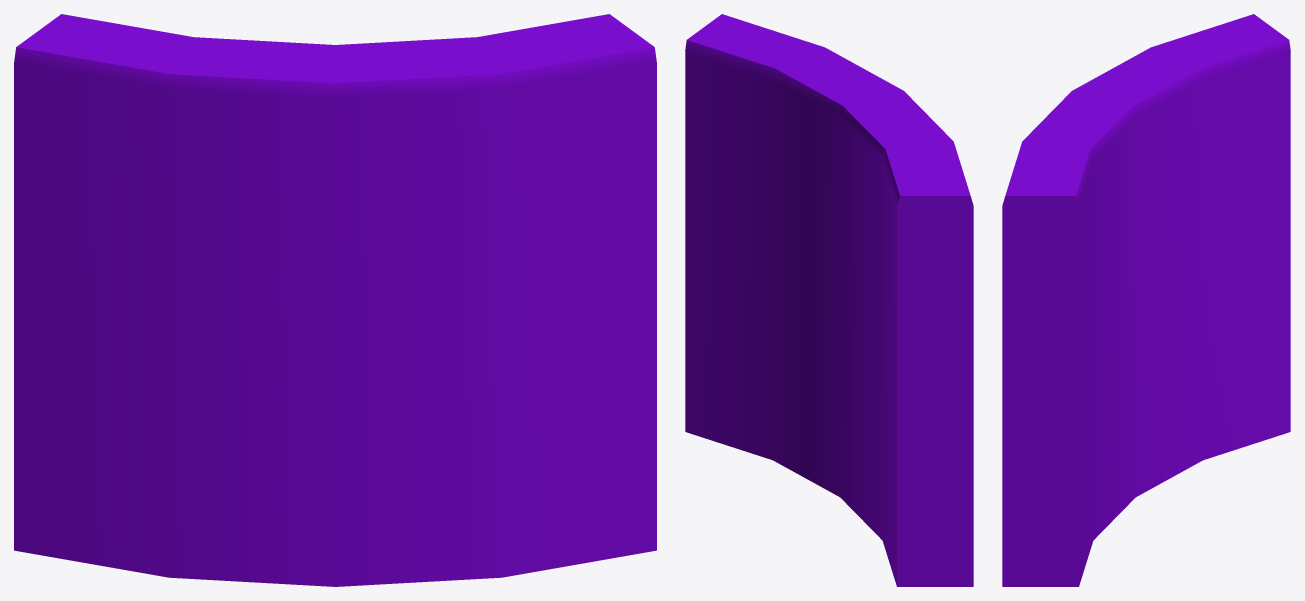
Rendered from RampN_C_30Deg_Right.fbx.
3 renders of one model, left to right at view 1: azimuth 30°, elevation 25°; view 2: azimuth 150°, elevation 25°; view 3: azimuth 270°, elevation 25°, orthographic. The views are drawn at different scales.
Visible parts, largest first — view 1: RampN_C_30Deg_Right; view 2: RampN_C_30Deg_Right; view 3: RampN_C_30Deg_Right.
Boxes of the visible parts, x1,y1,x2,y2 form: RampN_C_30Deg_Right: [14, 14, 656, 586]; RampN_C_30Deg_Right: [685, 14, 973, 586]; RampN_C_30Deg_Right: [1002, 14, 1290, 586].
Size of the model in its own units: 2.92 by 2.91 by 1.95.
